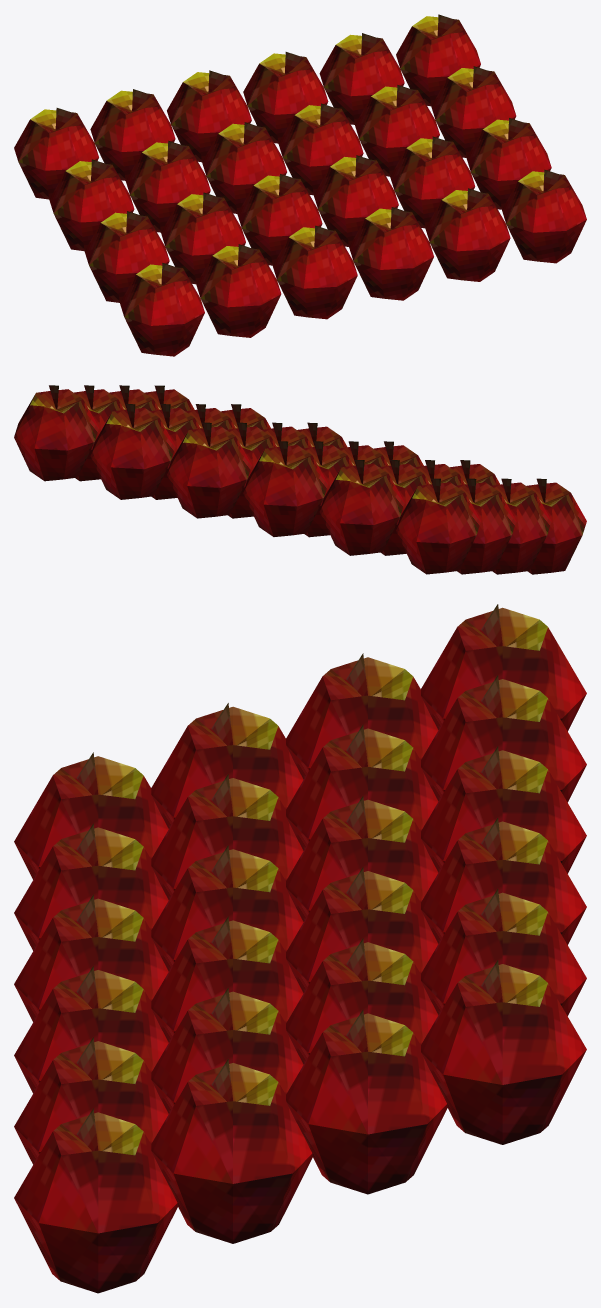
Rendered from Fruta2.fbx.
3 views of the same model, one above another, from view 1: azimuth 30°, elevation 25°; view 2: azimuth 150°, elevation 25°; view 3: azimuth 270°, elevation 25° (orthographic). The views are drawn at different scales.
Parts seen in each view (by area): view 1: Cube.002; view 2: Cube.002; view 3: Cube.002.
Part boxes in pixels (left/top/right/bottom): Cube.002: left=14, top=14, right=586, bottom=356; Cube.002: left=14, top=385, right=586, bottom=574; Cube.002: left=14, top=604, right=586, bottom=1293.
Bounding box in the file's own units: 68.16 × 23.3 × 38.62.
1 material, 1 textured.
